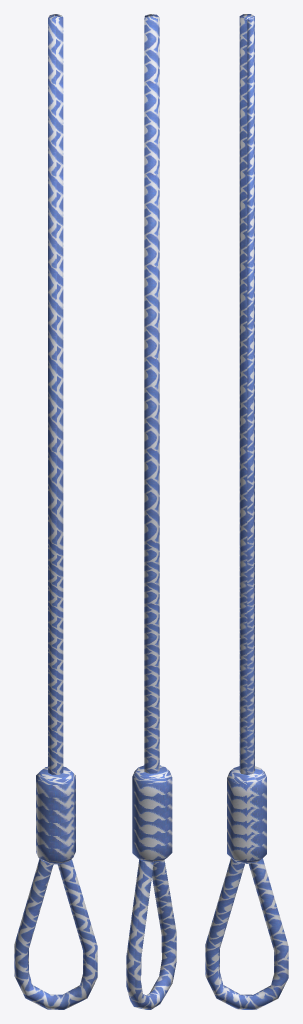
File: bridgerope.fbx
3 renders of one model, left to right at view 1: azimuth 90°, elevation 25°; view 2: azimuth 150°, elevation 25°; view 3: azimuth 270°, elevation 25°, orthographic.
Parts seen in each view (by area): view 1: bridgerope; view 2: bridgerope; view 3: bridgerope.
Part boxes in pixels (<box>): bridgerope: <box>14,14,97,1009</box>; bridgerope: <box>126,14,176,1009</box>; bridgerope: <box>205,14,288,1009</box>.
Size of the model in its own units: 8.22 by 228 by 17.42.
